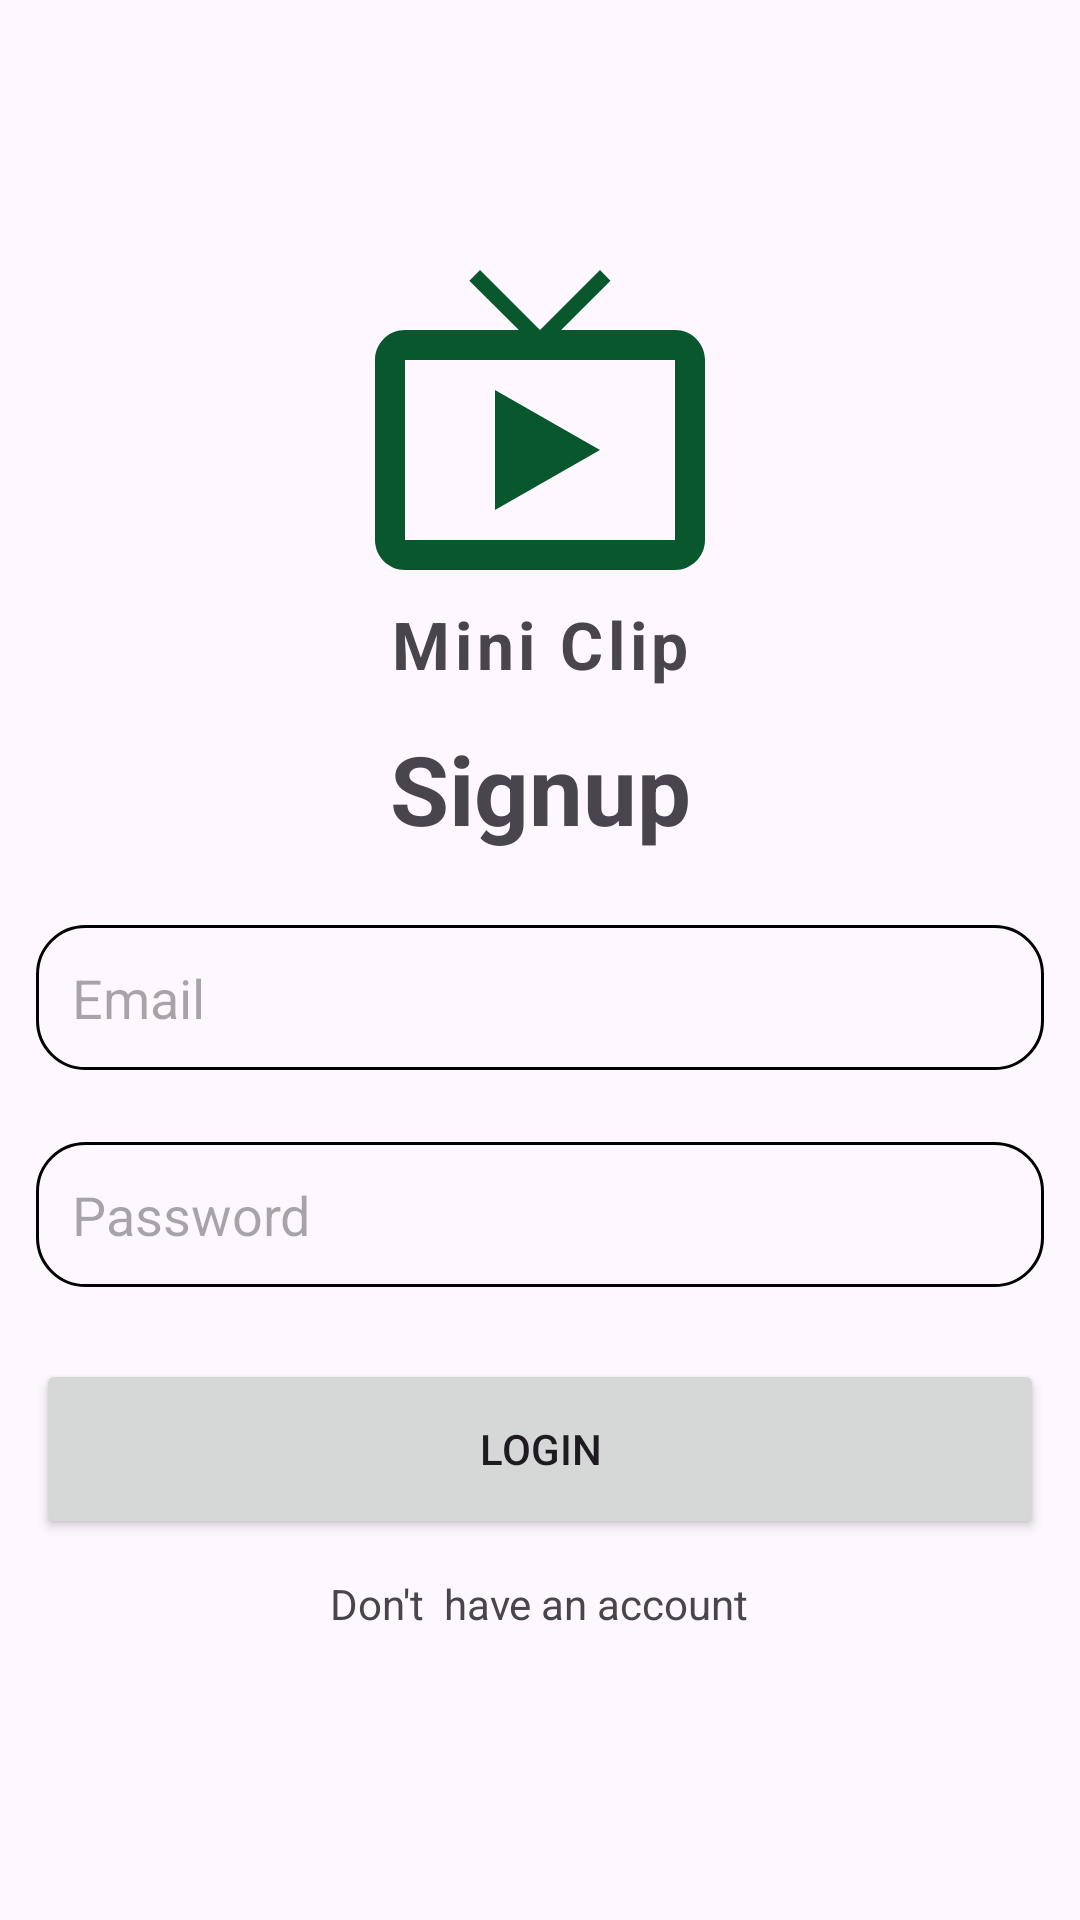

Named icons in this screenshot (1080×1920) and their centers, [x,y]:
vedio: [540,420]
